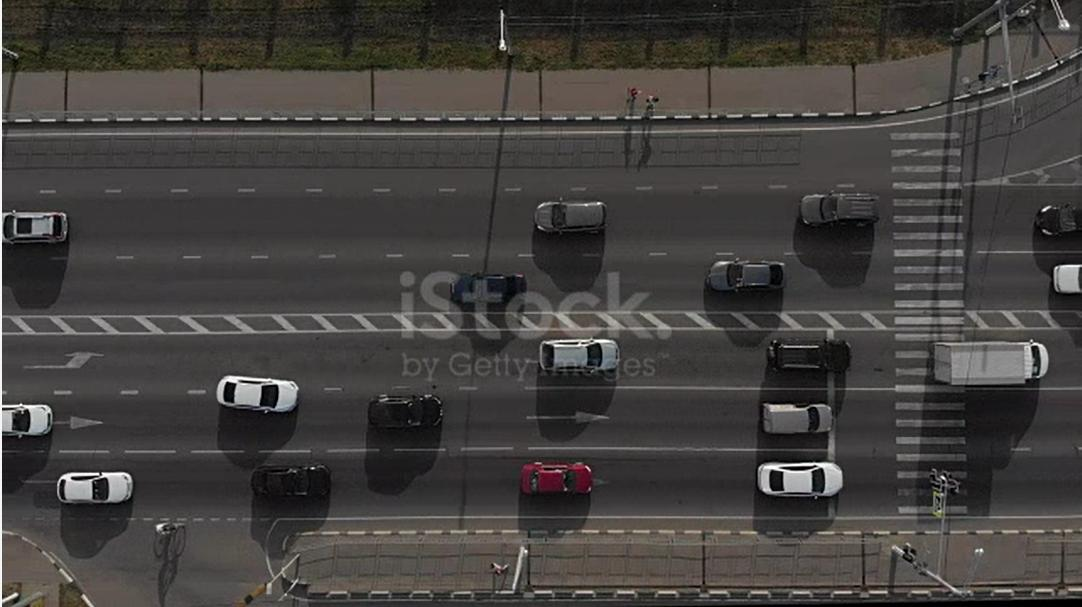car: (205, 360, 312, 425), (227, 450, 343, 506), (362, 377, 455, 446), (437, 266, 546, 319), (766, 332, 863, 389), (0, 196, 89, 258), (797, 183, 887, 241), (536, 332, 628, 387), (512, 451, 602, 507), (528, 196, 626, 246), (699, 252, 799, 300), (752, 456, 847, 503), (48, 468, 141, 513), (0, 393, 64, 453), (757, 394, 829, 441)
truck: (923, 332, 1076, 400)
